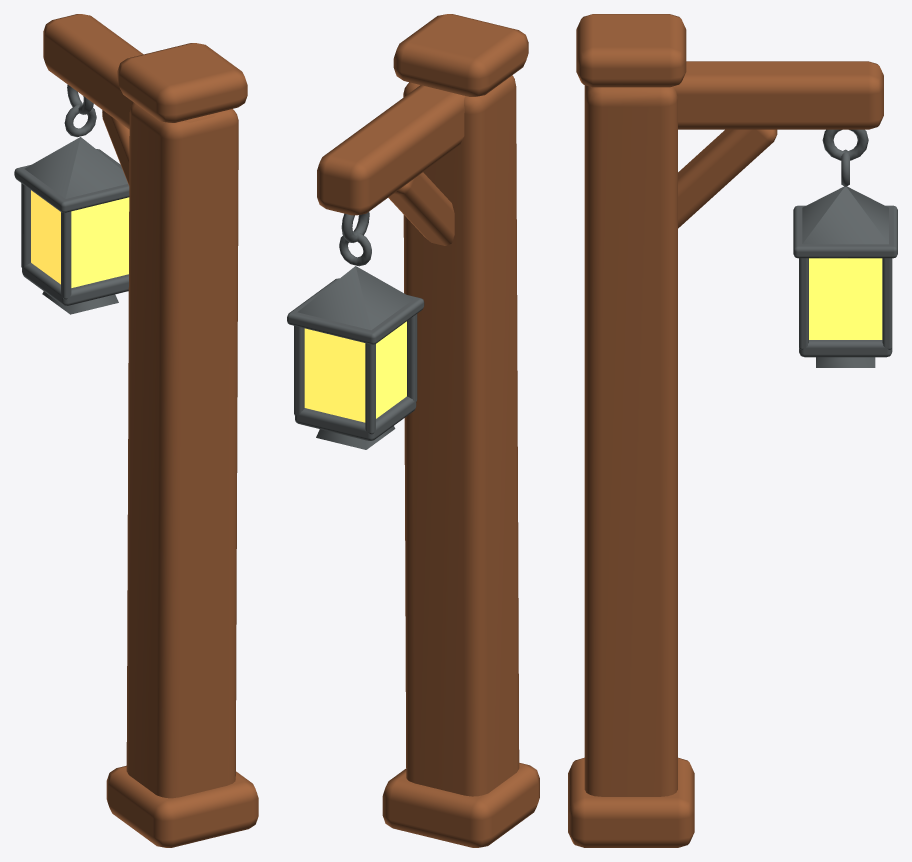
Rendered from PROP_LANTERN_POST.glb.
The picture shows the model from 3 angles, left to right: view 1: azimuth 30°, elevation 25°; view 2: azimuth 150°, elevation 25°; view 3: azimuth 270°, elevation 25°; orthographic projection. The views are drawn at different scales.
Visible parts, largest first — view 1: post, lantern_frame, post_cap, post_foot, lantern_glass, arm, arm_brace; view 2: post, lantern_frame, arm, post_cap, post_foot, lantern_glass, arm_brace; view 3: post, arm, lantern_frame, post_cap, post_foot, lantern_glass, arm_brace.
Boxes of the visible parts, x1,y1,x2,y2 form: post: [126, 102, 238, 798]; lantern_frame: [14, 84, 129, 314]; post_cap: [117, 43, 247, 122]; post_foot: [106, 765, 258, 847]; lantern_glass: [31, 190, 129, 287]; arm: [43, 14, 216, 129]; arm_brace: [102, 110, 129, 185]; post: [403, 75, 519, 796]; lantern_frame: [287, 212, 424, 449]; arm: [317, 85, 464, 215]; post_cap: [393, 14, 528, 96]; post_foot: [382, 763, 539, 847]; lantern_glass: [304, 321, 406, 422]; arm_brace: [388, 172, 454, 245]; post: [584, 85, 677, 796]; arm: [673, 61, 883, 129]; lantern_frame: [793, 129, 897, 367]; post_cap: [576, 14, 686, 87]; post_foot: [568, 757, 694, 847]; lantern_glass: [809, 258, 882, 339]; arm_brace: [678, 129, 777, 228].
Bounding box in the file's own units: 1.15 × 8 × 3.
